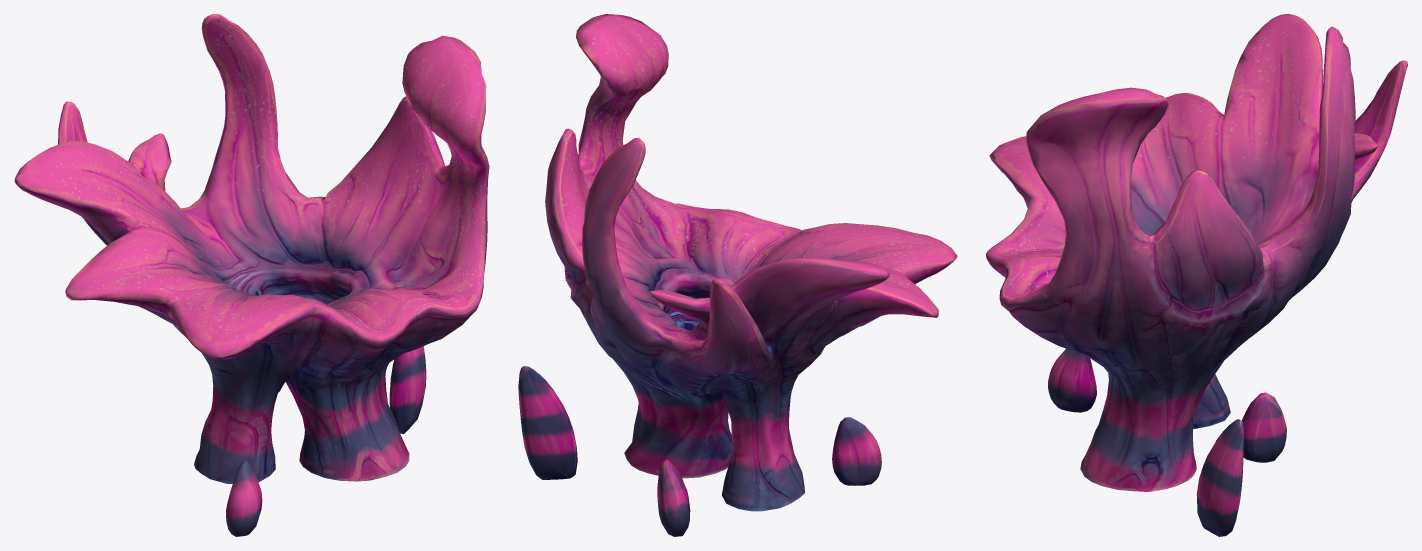
Rendered from VegetationSmall06.fbx.
3 renders of one model, left to right at view 1: azimuth 30°, elevation 25°; view 2: azimuth 150°, elevation 25°; view 3: azimuth 270°, elevation 25°, orthographic. The views are drawn at different scales.
Visible parts, largest first — view 1: VegetationSmall06_LOD00; view 2: VegetationSmall06_LOD00; view 3: VegetationSmall06_LOD00.
Boxes of the visible parts, left/top/right/bottom form: VegetationSmall06_LOD00: left=14, top=14, right=489, bottom=536; VegetationSmall06_LOD00: left=518, top=14, right=957, bottom=536; VegetationSmall06_LOD00: left=986, top=14, right=1407, bottom=536.
Size of what is drawn, in the model's own units: 182 by 190 by 164.
